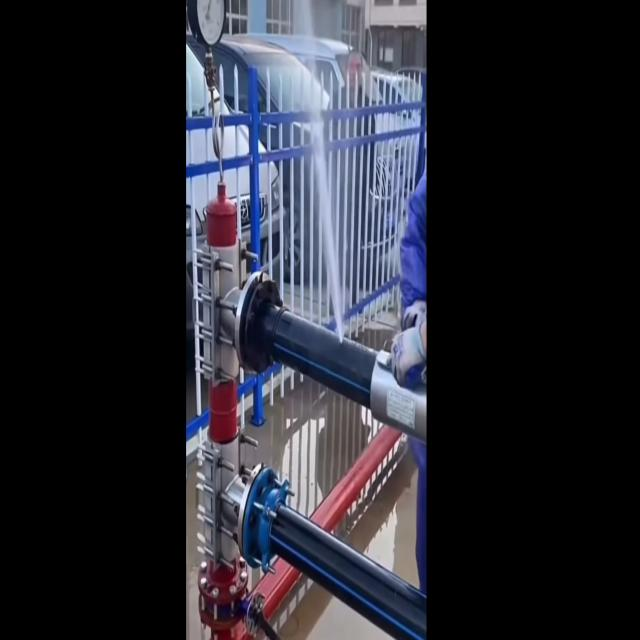leak: (311, 118, 342, 340)
